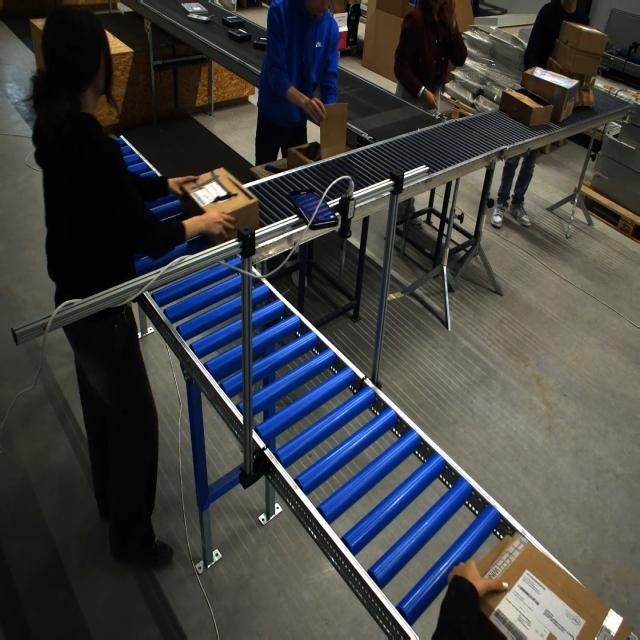box: (468, 528, 632, 640), (183, 167, 258, 236), (520, 65, 579, 124), (294, 103, 347, 167), (549, 35, 606, 77), (499, 88, 553, 129)
product: (227, 27, 252, 43), (181, 2, 209, 14), (221, 15, 244, 28), (186, 13, 213, 22), (252, 37, 267, 50)
